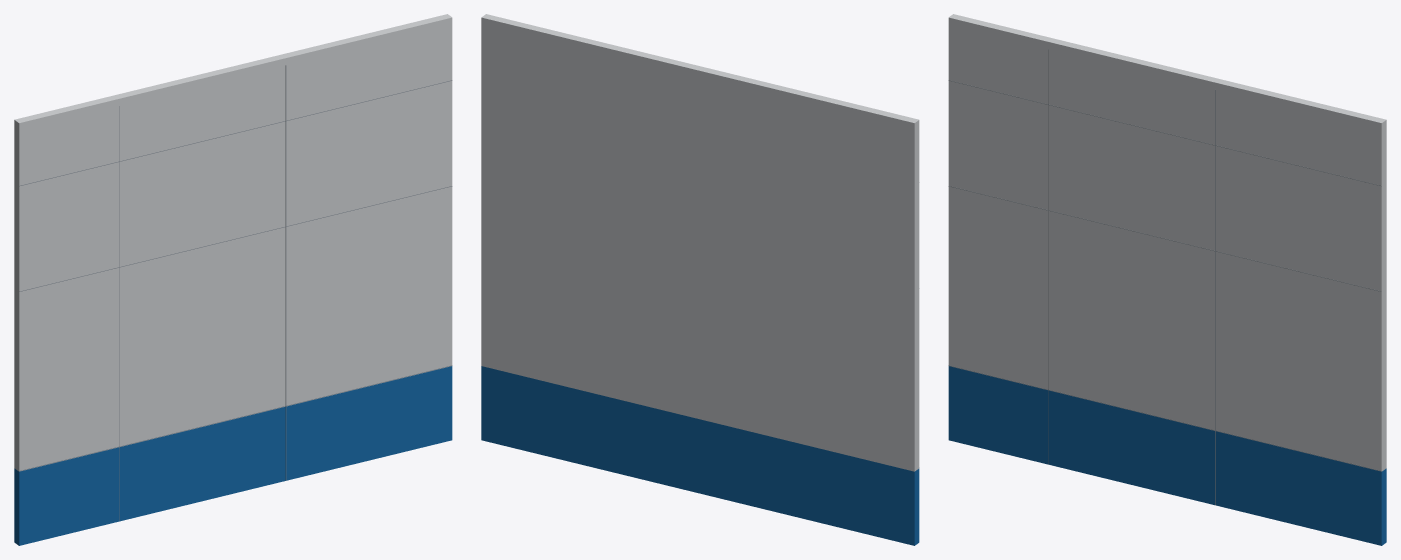
The model's file is SM_MPR4_Facade_08.fbx.
3 views of the same model, side by side, from view 1: azimuth 30°, elevation 25°; view 2: azimuth 150°, elevation 25°; view 3: azimuth 330°, elevation 25° (orthographic).
Visible parts, largest first — view 1: SM_MPR4_Facade_08; view 2: SM_MPR4_Facade_08; view 3: SM_MPR4_Facade_08.
Part boxes in pixels (box(x1,y1,x2,y2)): SM_MPR4_Facade_08: box(14, 14, 452, 545); SM_MPR4_Facade_08: box(481, 14, 919, 545); SM_MPR4_Facade_08: box(948, 14, 1386, 545).
Bounding box in the file's own units: 1588 × 31.44 × 1480.
